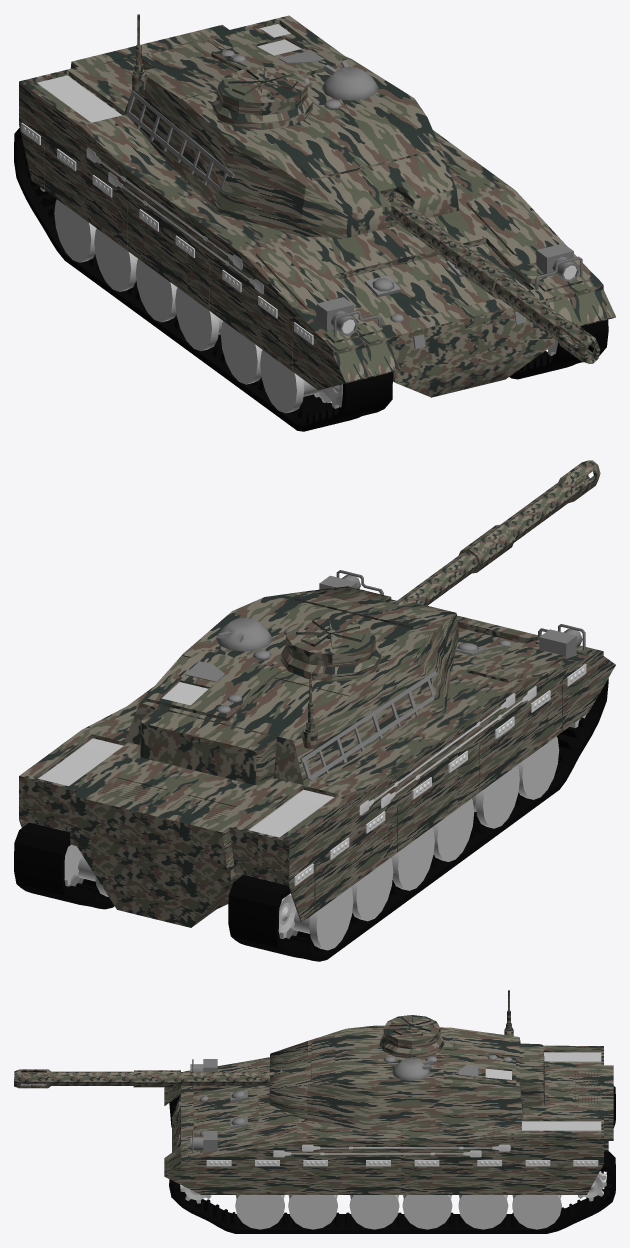
3 renders of one model, top to bottom at view 1: azimuth 30°, elevation 25°; view 2: azimuth 150°, elevation 25°; view 3: azimuth 270°, elevation 25°, orthographic. The views are drawn at different scales.
Visible parts, largest first — view 1: 몸체, 터렛, 바퀴, 괘도, 포, 앞경첩, 경첩, 배기구, 사다리, 옆 경첩, 괘도001, 무전기같은거; view 2: 몸체, 터렛, 바퀴, 괘도, 포, 괘도001, 배기구, 경첩, 앞경첩, 사다리, 옆 경첩, 무전기같은거 (+1 smaller); view 3: 몸체, 터렛, 바퀴001, 괘도001, 포, 옆 경첩, 배기구, 앞경첩, 무전기같은거, 경첩.
Boxes of the visible parts, x1,y1,x2,y2 form: 몸체: [19, 15, 615, 397]; 터렛: [124, 14, 458, 238]; 바퀴: [40, 187, 342, 413]; 괘도: [14, 128, 393, 431]; 포: [383, 190, 600, 363]; 앞경첩: [316, 243, 582, 348]; 경첩: [220, 50, 378, 110]; 배기구: [37, 24, 290, 122]; 사다리: [126, 90, 234, 191]; 옆 경첩: [21, 122, 313, 344]; 괘도001: [509, 306, 608, 379]; 무전기같은거: [86, 147, 263, 294]; 몸체: [19, 599, 615, 927]; 터렛: [124, 586, 458, 784]; 바퀴: [278, 714, 586, 950]; 괘도: [228, 678, 608, 961]; 포: [393, 460, 600, 605]; 괘도001: [14, 822, 114, 909]; 배기구: [38, 738, 333, 837]; 경첩: [185, 618, 290, 713]; 앞경첩: [319, 570, 585, 658]; 사다리: [300, 671, 436, 780]; 옆 경첩: [294, 664, 586, 885]; 무전기같은거: [359, 686, 536, 815]; 몸체: [164, 1045, 613, 1194]; 터렛: [269, 990, 544, 1132]; 바퀴001: [180, 1171, 606, 1229]; 괘도001: [169, 1151, 615, 1233]; 포: [14, 1069, 285, 1088]; 옆 경첩: [206, 1160, 598, 1166]; 배기구: [522, 1052, 601, 1130]; 앞경첩: [177, 1059, 247, 1153]; 무전기같은거: [273, 1144, 510, 1157]; 경첩: [383, 1054, 512, 1080].
Bounding box in the file's own units: 90.11 × 80.01 × 254.
